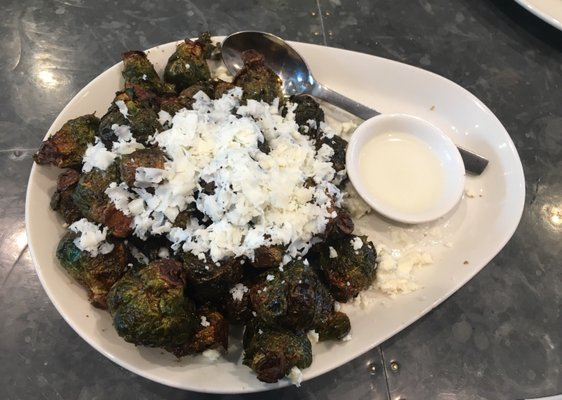salad: (221, 30, 383, 122)
sushi: (345, 114, 469, 225)
